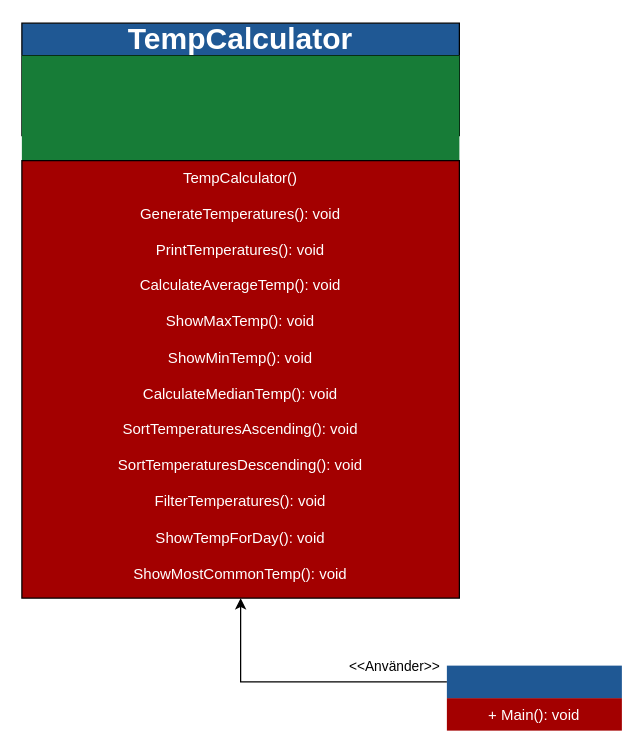
Image size: 644x756. Some labels were removed from this diagram. The centre of each missing label's shape, as x and y in pixels:
"MayDays: const int temperatures: int[] random: Random" belongs at (240,107).
"Program" belongs at (533,681).
